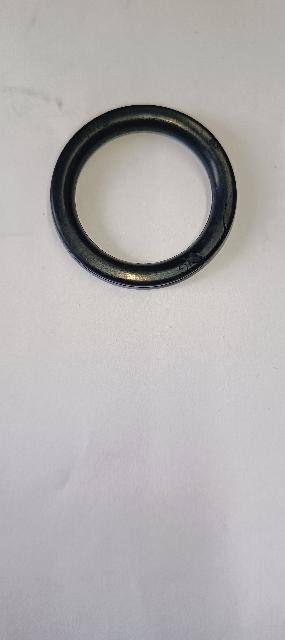4: (178, 249, 212, 270)
scratch: (203, 133, 226, 155), (218, 204, 231, 241)
